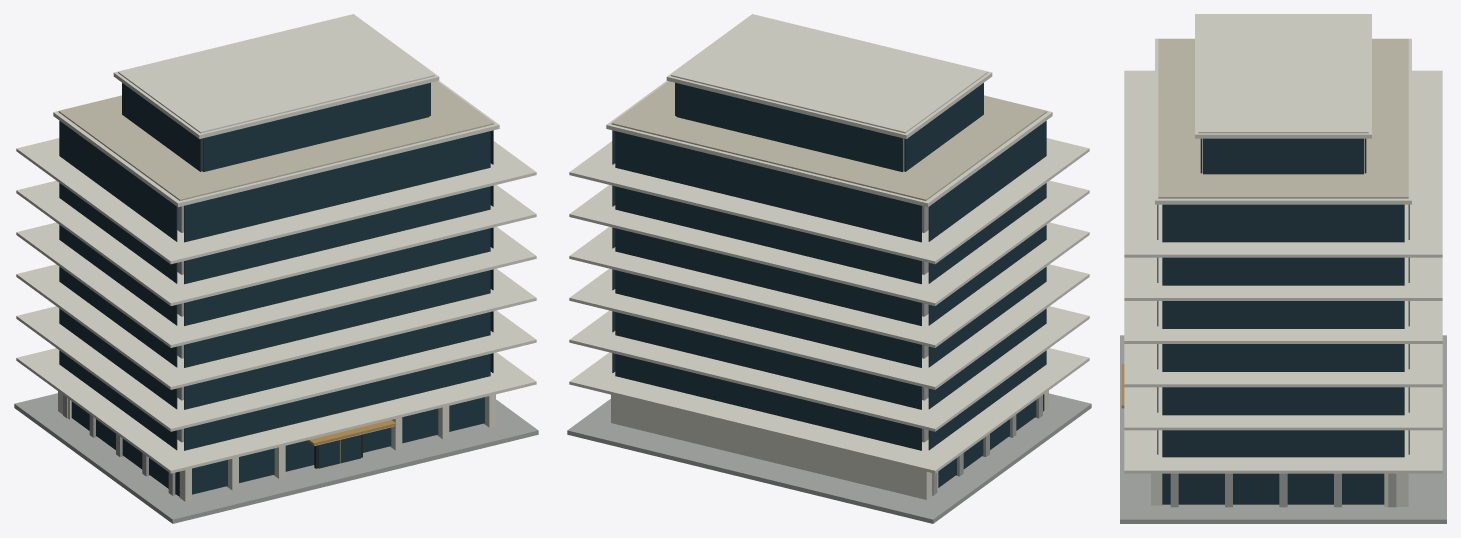
The model's file is residence-lod2.glb.
3 views of the same model, side by side, from view 1: azimuth 30°, elevation 25°; view 2: azimuth 150°, elevation 25°; view 3: azimuth 270°, elevation 25° (orthographic). The views are drawn at different scales.
Visible parts, largest first — view 1: 2_white, 2_glazing, 2_concrete, 2_paving, 2_gold; view 2: 2_white, 2_glazing, 2_concrete, 2_paving; view 3: 2_white, 2_glazing, 2_paving, 2_concrete.
Boxes of the visible parts, x1,y1,x2,y2 form: 2_white: (16, 14, 536, 501); 2_glazing: (59, 82, 493, 496); 2_concrete: (14, 138, 538, 523); 2_paving: (58, 81, 494, 200); 2_gold: (307, 420, 395, 463); 2_white: (569, 14, 1089, 499); 2_glazing: (612, 82, 1046, 487); 2_concrete: (567, 138, 1091, 523); 2_paving: (611, 81, 1047, 200); 2_white: (1123, 14, 1442, 506); 2_glazing: (1157, 138, 1409, 504); 2_paving: (1158, 39, 1408, 198); 2_concrete: (1120, 335, 1446, 523).
Size of the model in its own units: 32 by 29.09 by 24.
